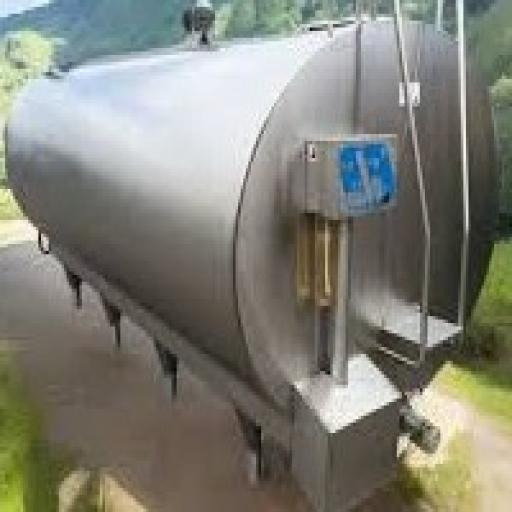silo: (1, 15, 502, 454)
